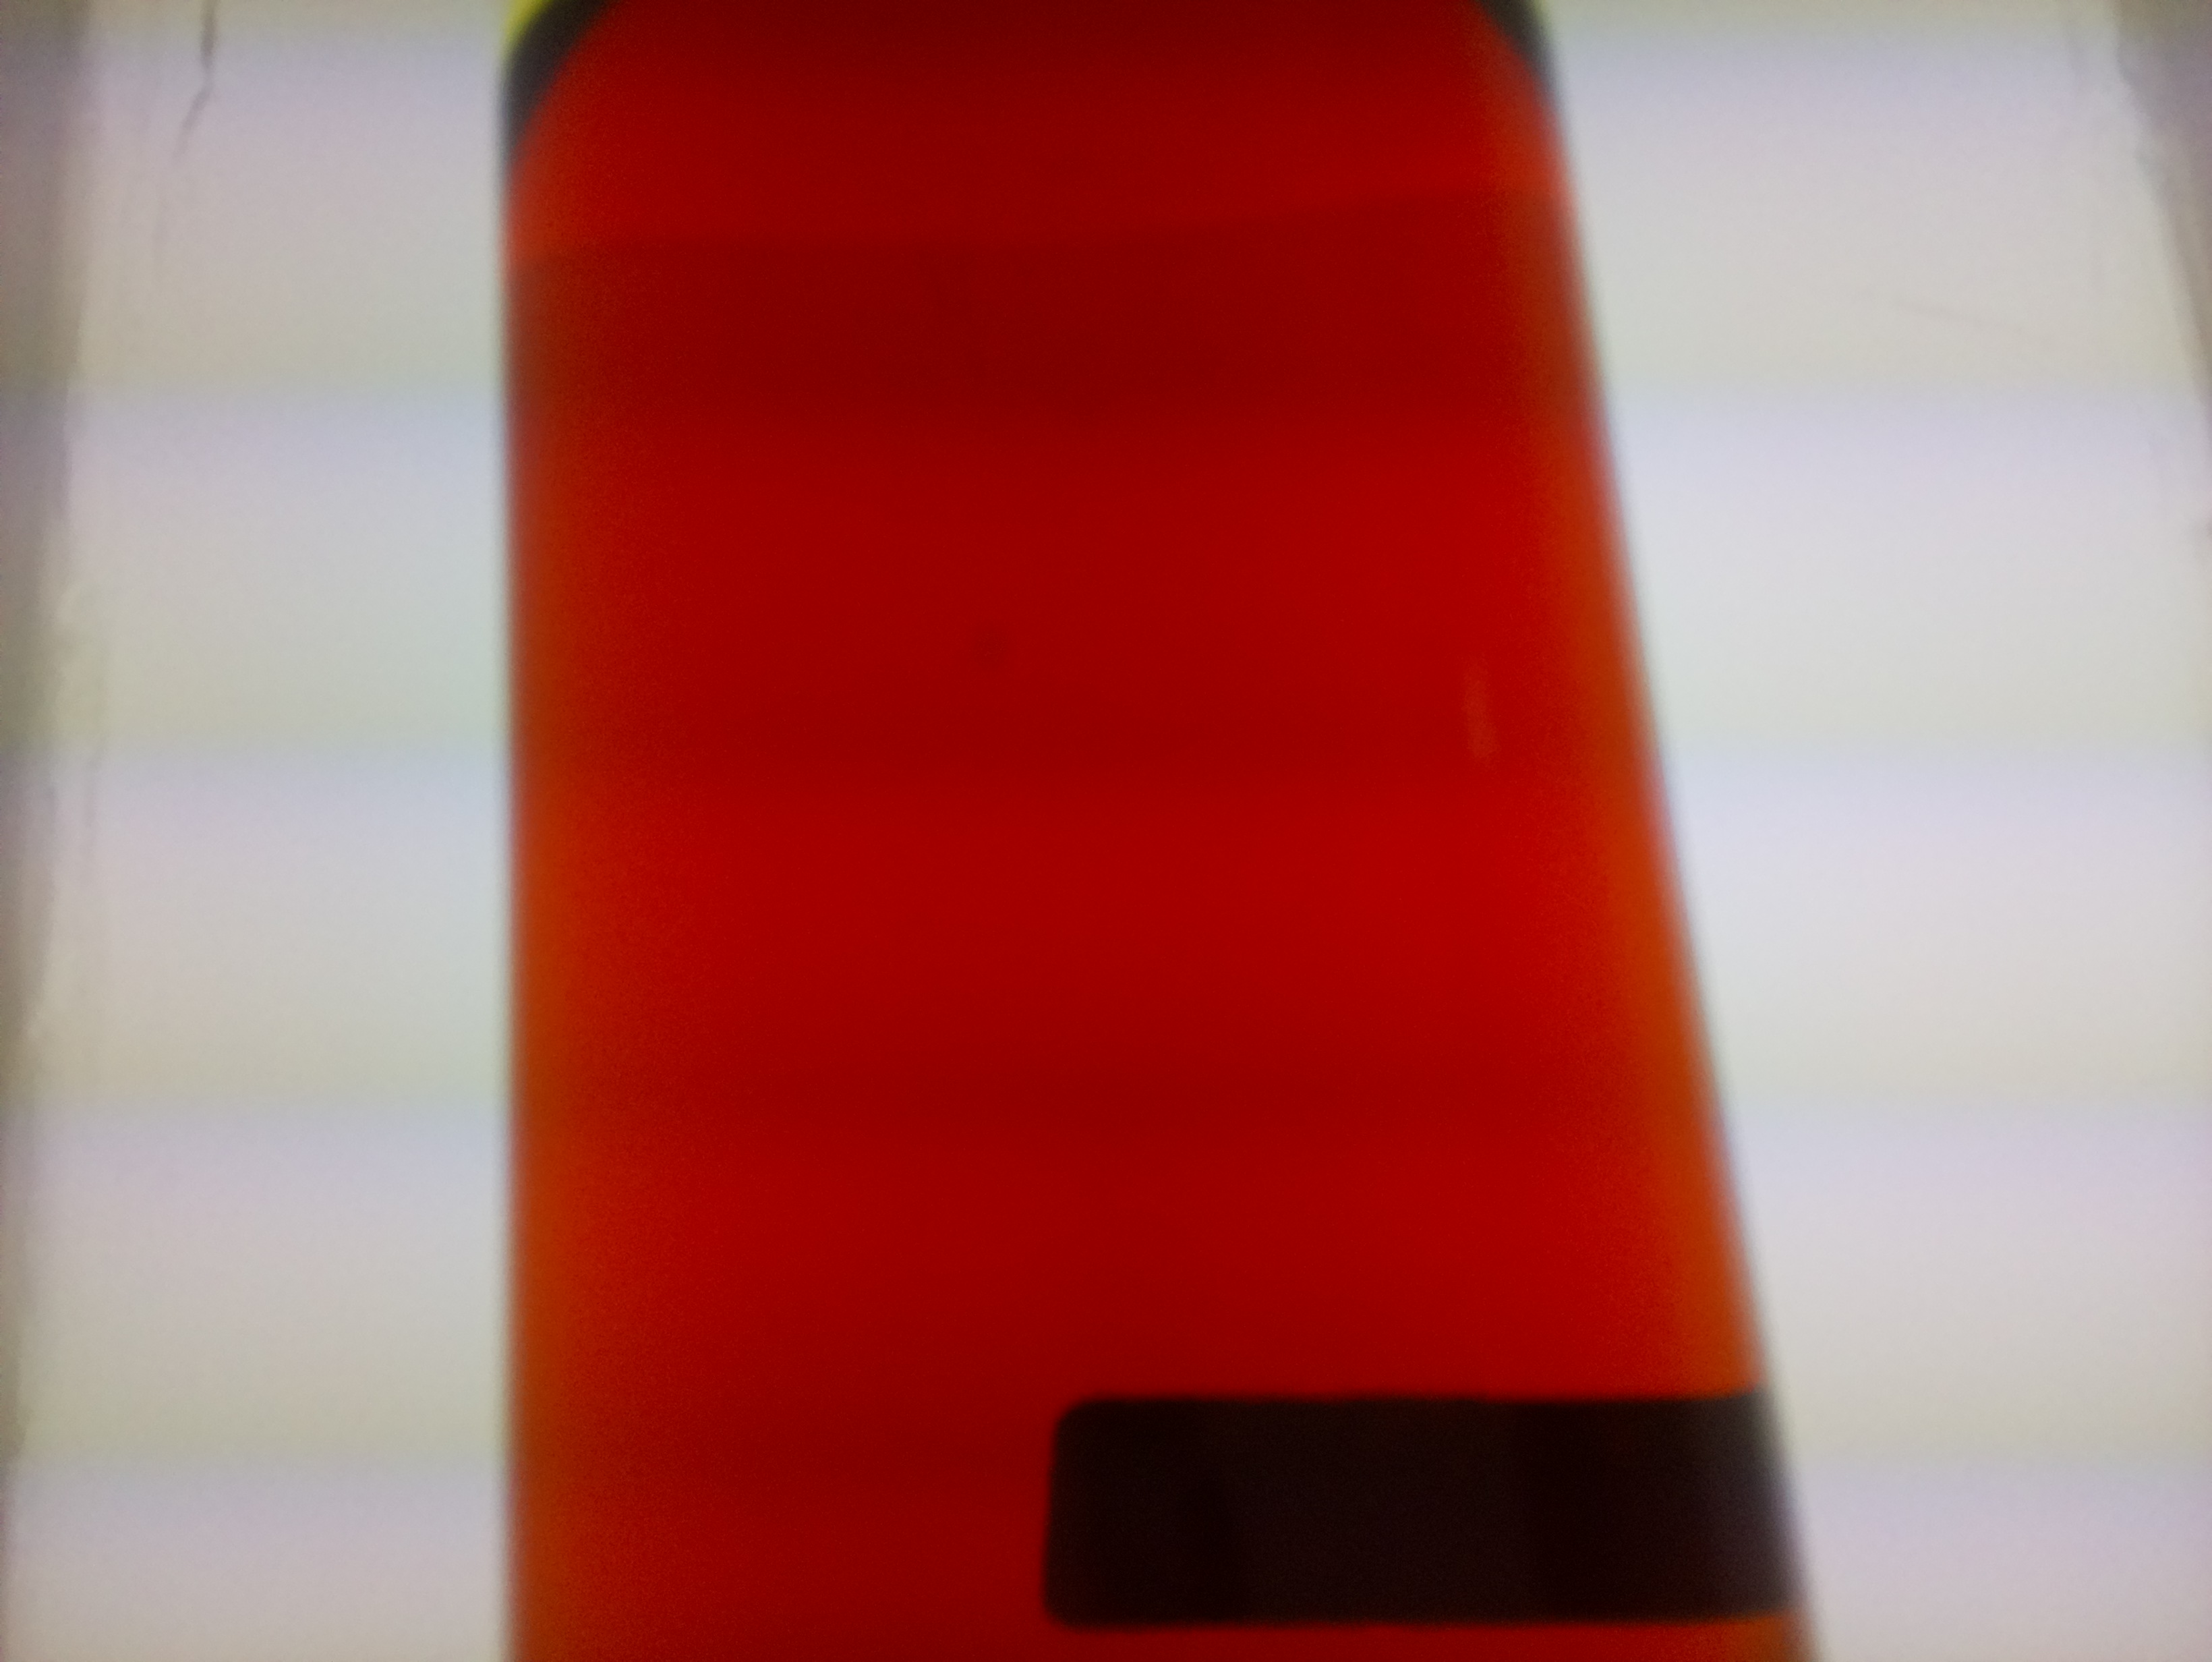colored_area: (506, 66, 1802, 1655)
